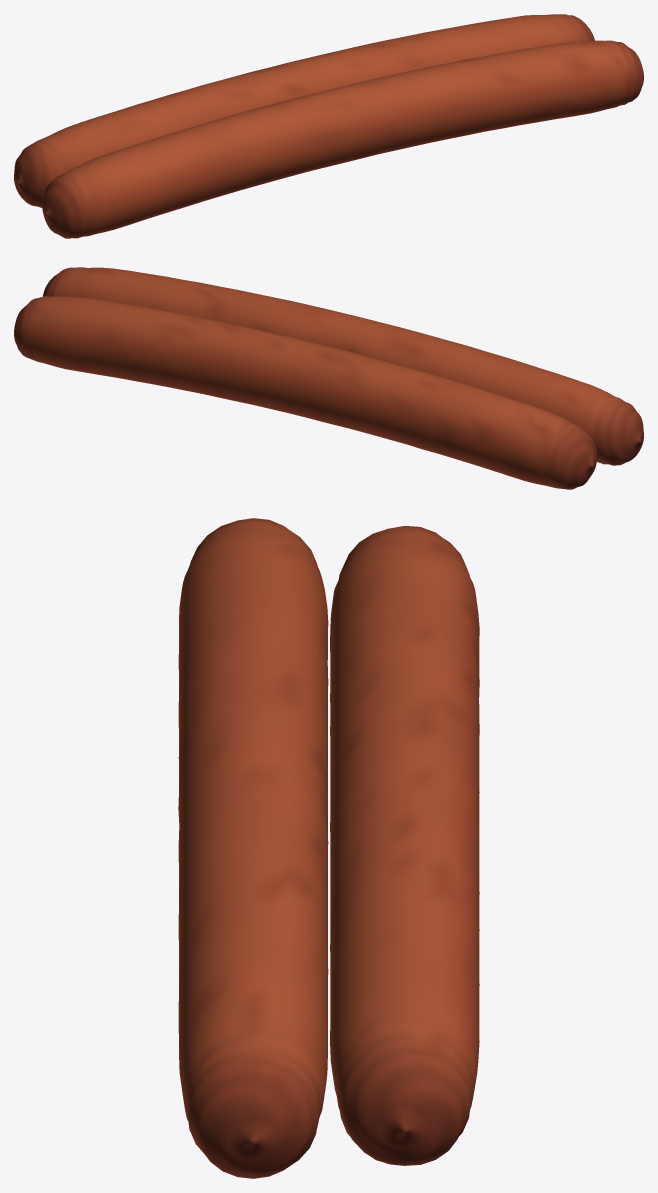
The model's file is dog-salsichas.glb.
3 renders of one model, top to bottom at view 1: azimuth 30°, elevation 25°; view 2: azimuth 150°, elevation 25°; view 3: azimuth 270°, elevation 25°, orthographic. The views are drawn at different scales.
Visible parts, largest first — view 1: dog_salsichas_corpo; view 2: dog_salsichas_corpo; view 3: dog_salsichas_corpo.
Part boxes in pixels (x1,y1,x2,y2): dog_salsichas_corpo: [14, 14, 643, 238]; dog_salsichas_corpo: [14, 267, 643, 489]; dog_salsichas_corpo: [178, 518, 479, 1178].
Bounding box in the file's own units: 0.251 × 0.0318 × 0.0549.
